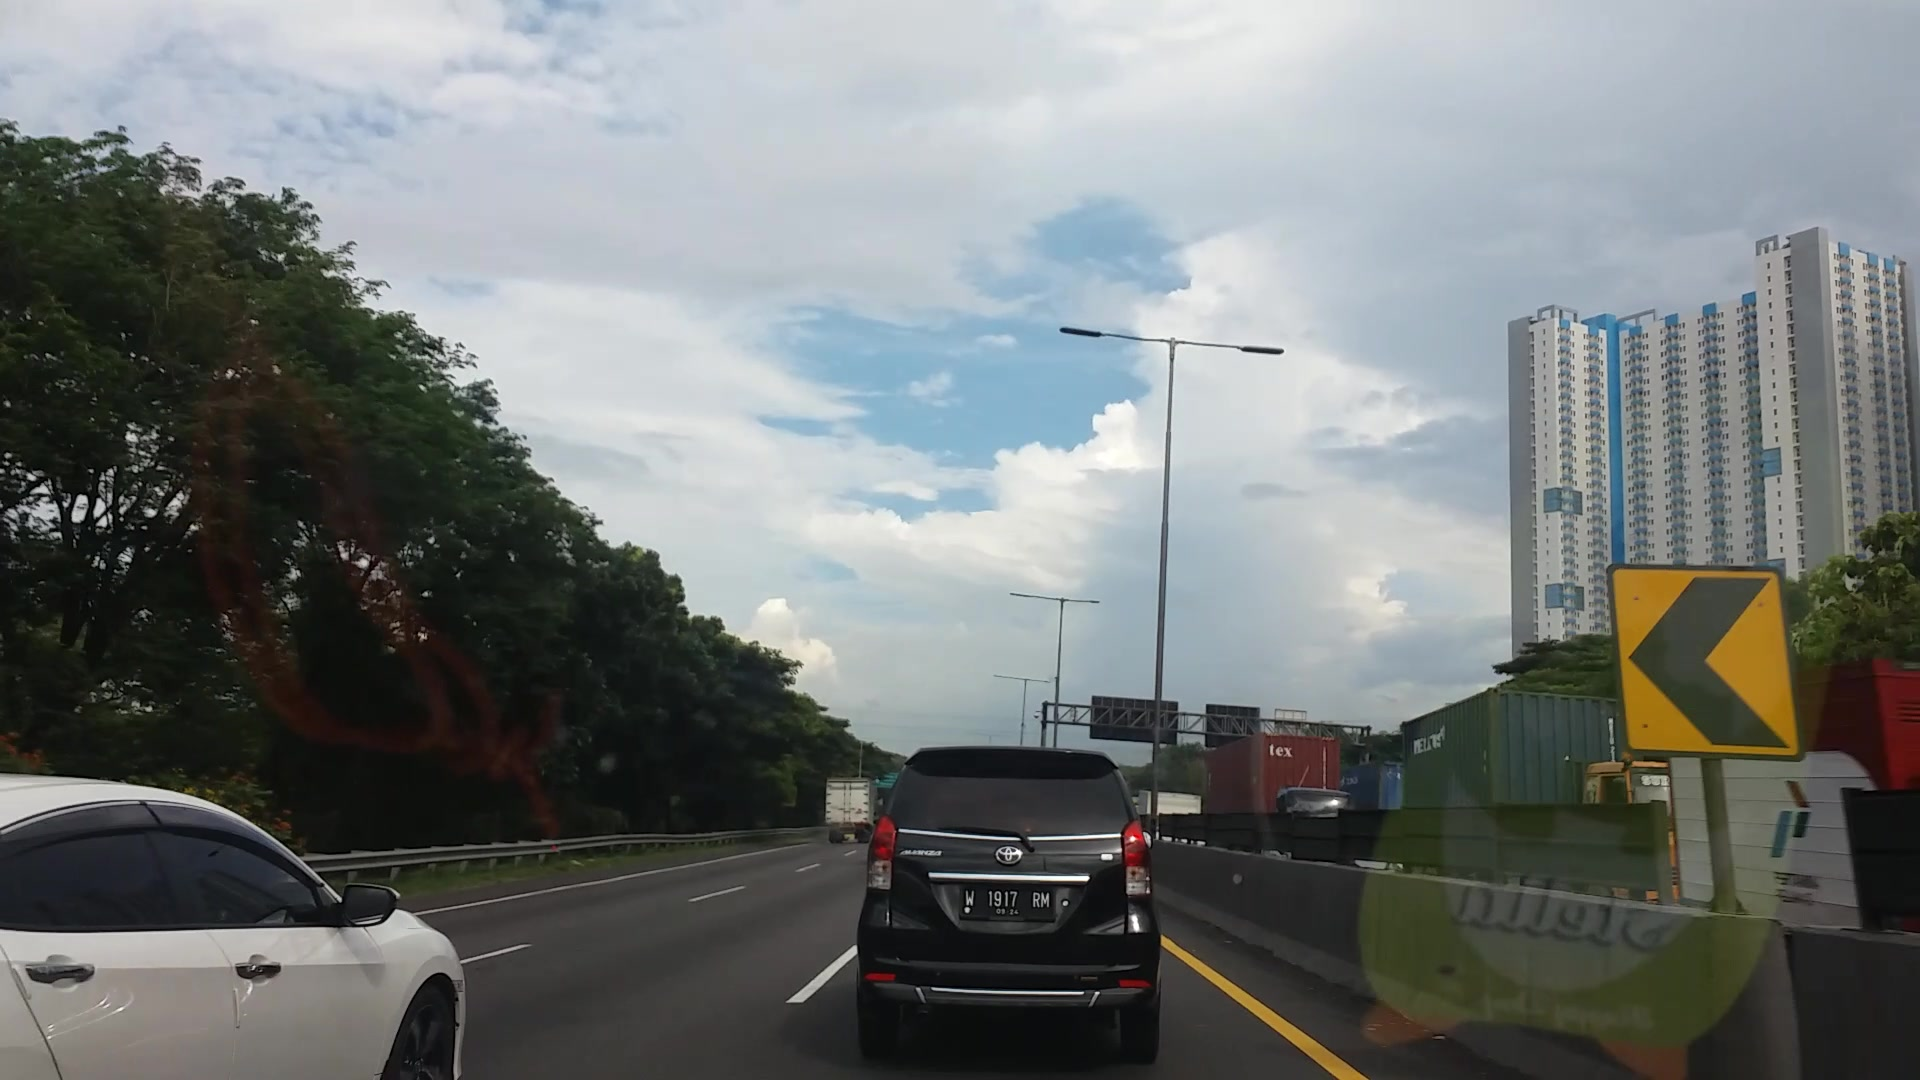plate_positive: (960, 886, 1054, 916)
